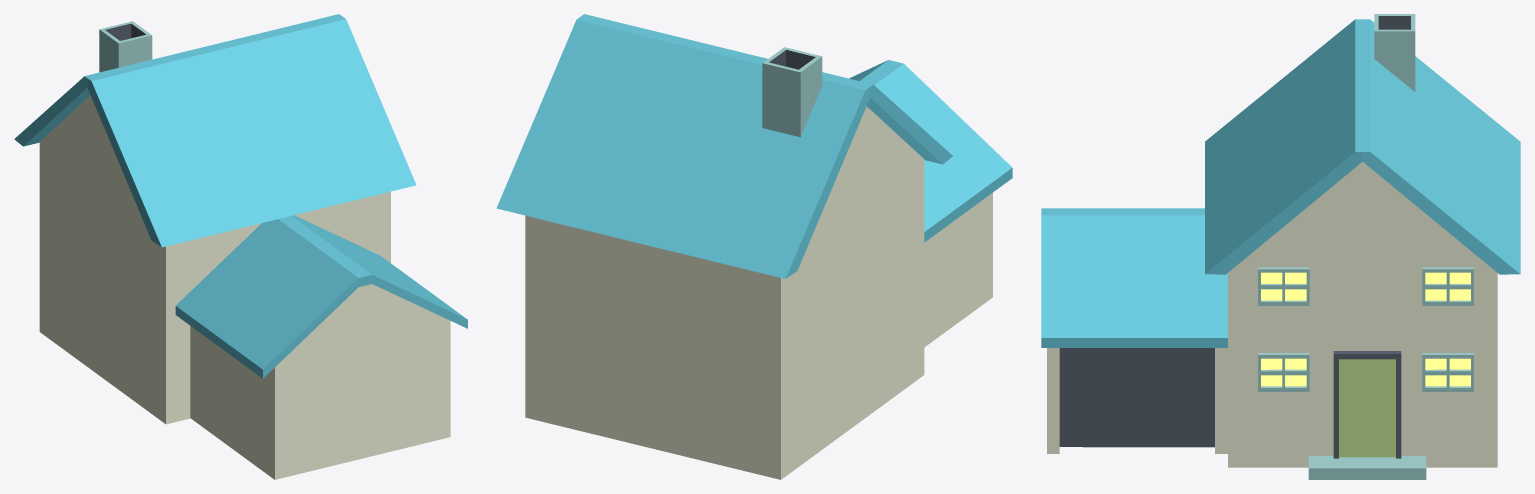
The model's file is house_2.fbx.
3 renders of one model, left to right at view 1: azimuth 30°, elevation 25°; view 2: azimuth 150°, elevation 25°; view 3: azimuth 270°, elevation 25°, orthographic. The views are drawn at different scales.
Visible parts, largest first — view 1: house_2; view 2: house_2; view 3: house_2.
Part boxes in pixels (left/top/right/bottom): house_2: left=14, top=14, right=467, bottom=479; house_2: left=496, top=14, right=1012, bottom=479; house_2: left=1041, top=14, right=1520, bottom=479.
Size of the model in its own units: 5.46 by 6.43 by 8.04.
